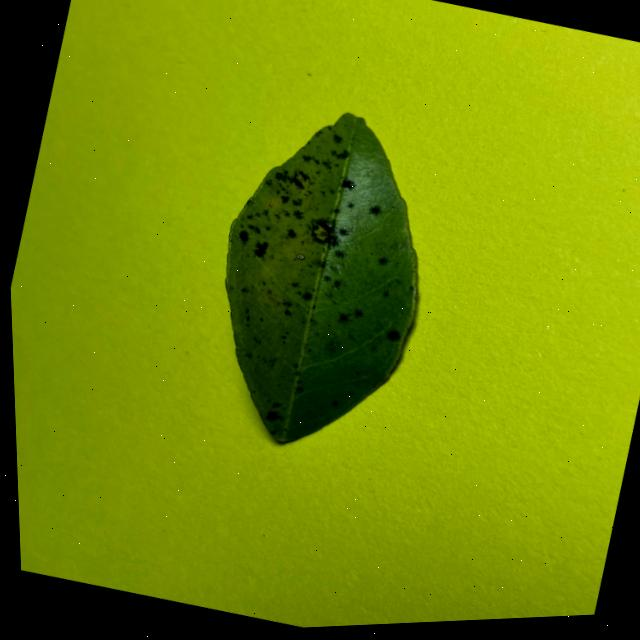sooty_mold: (224, 112, 416, 440)
